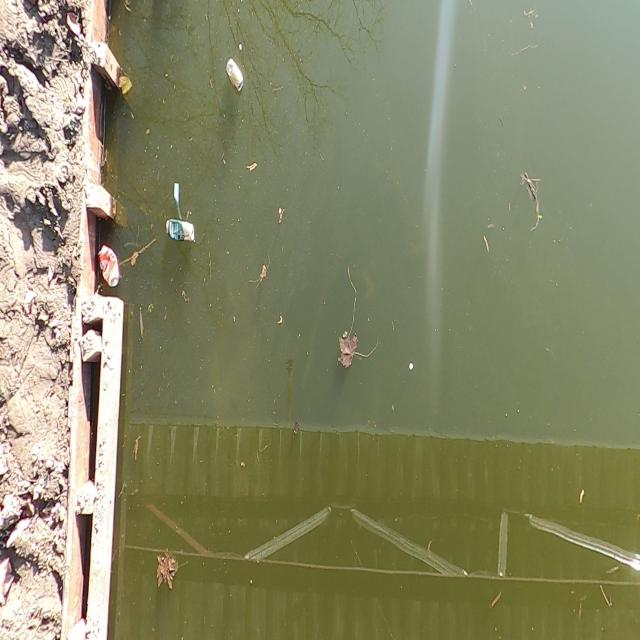Non plastique: (160, 217, 197, 252), (96, 242, 120, 293), (221, 54, 247, 95)
